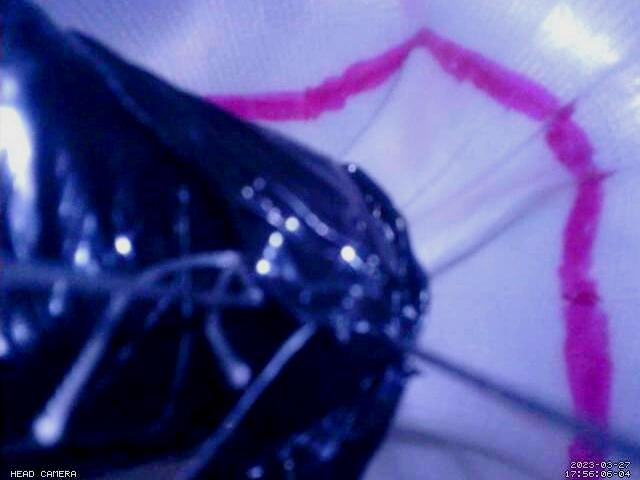red-circle: (205, 25, 616, 480)
